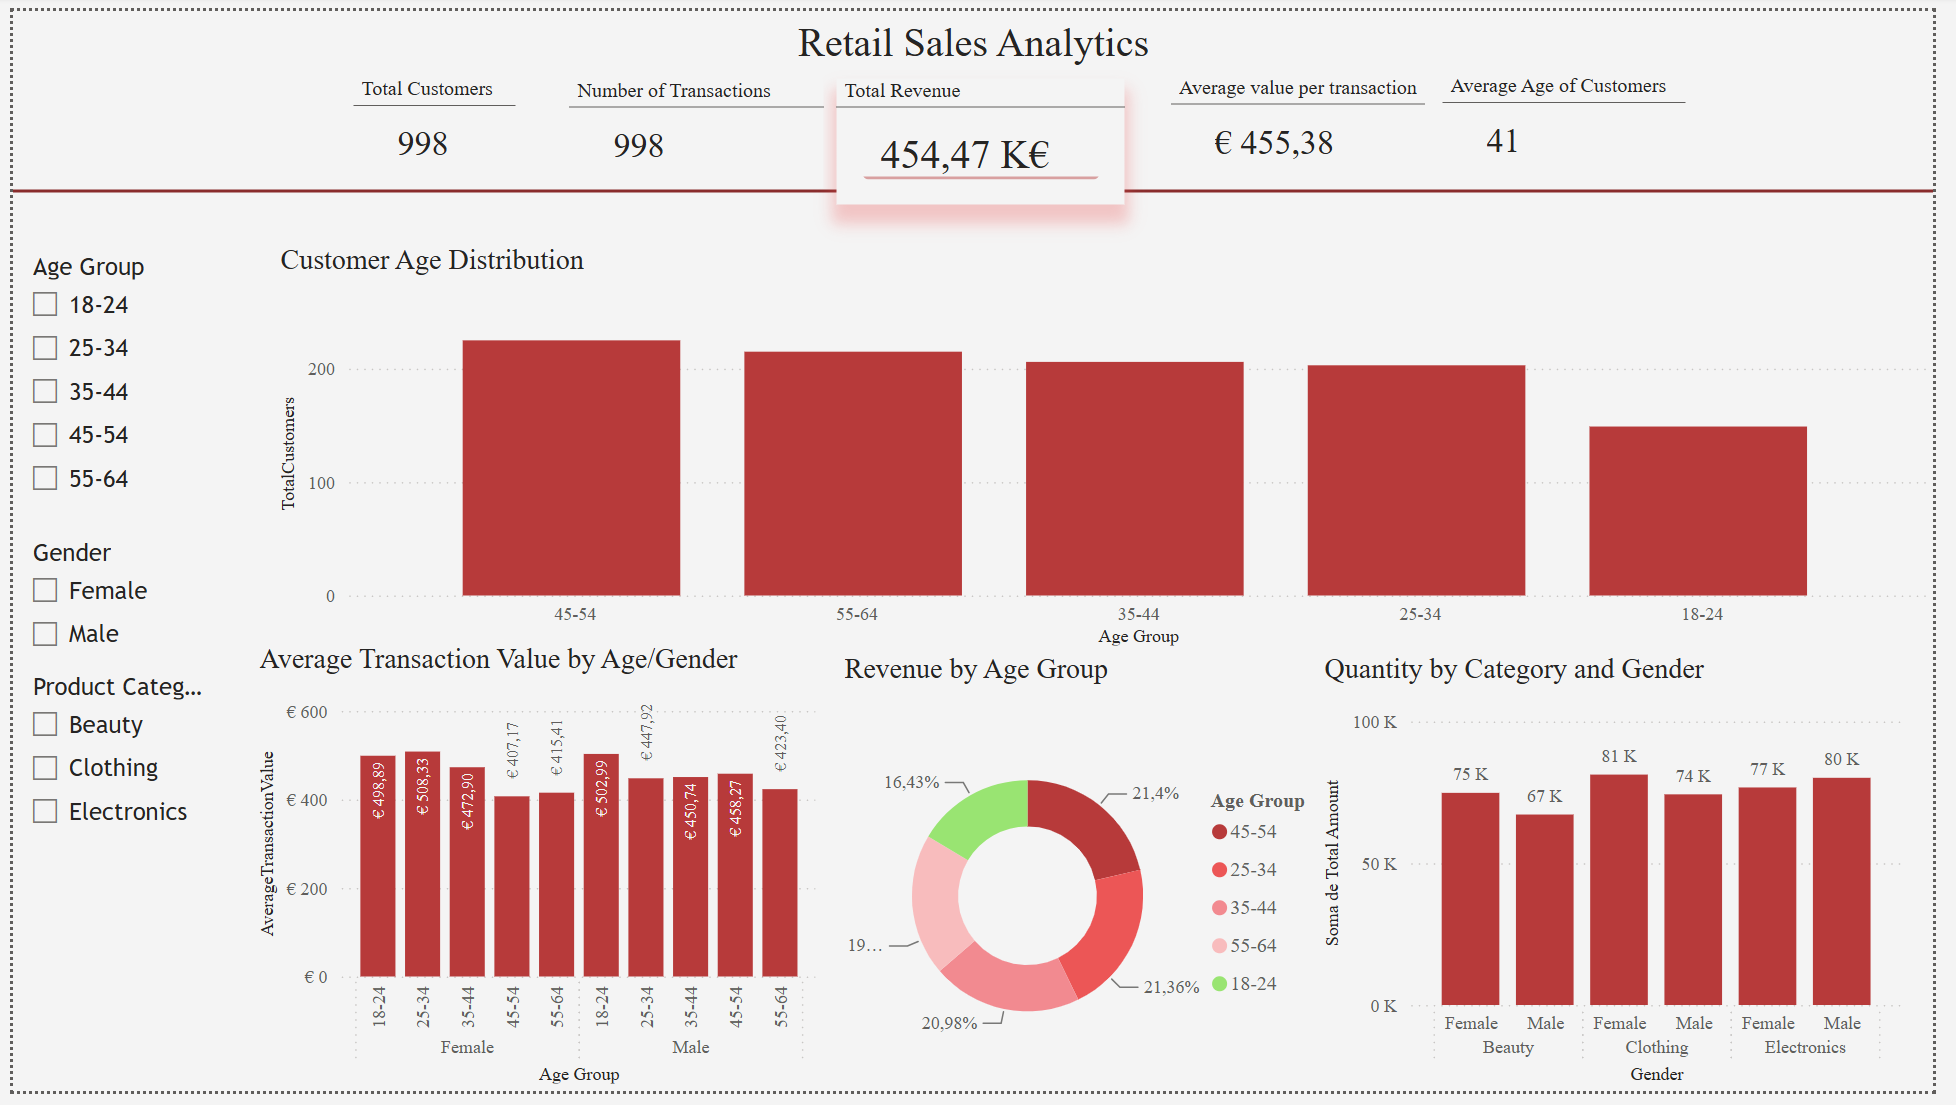

Layout of this report page (visuals, bound fields, positions):
{"tool":"powerbi","page":{"name":"Customer Insights","canvas":[1280,720],"ordinal":1},"visuals":[{"type":"shape","box":[0,45,1280,150],"z":0},{"type":"textbox","box":[0,0,1280,45],"z":1000},{"type":"cardVisual","title":"Total Revenue","fields":{"Data":["Retail_Sale.TotalRevenue"]},"box":[549,45,192,84],"z":2000},{"type":"cardVisual","title":"Number of Transactions","fields":{"Data":["Retail_Sale.TotalTransaction"]},"box":[371.2,45,168.8,72.5],"z":4000},{"type":"cardVisual","title":"Average value per transaction","fields":{"Data":["Retail_Sale.AverageTransactionValue"]},"box":[772,43,168.8,72.5],"z":5000},{"type":"cardVisual","title":"Average Age of Customers","fields":{"Data":["Dim_Customer.AverageCustomerAge"]},"box":[953,42,162,73],"z":7000},{"type":"slicer","fields":{"Values":["Dim_Customer.Age Group"]},"box":[0,155,119,176],"z":8000},{"type":"cardVisual","title":"Total Customers","fields":{"Data":["Dim_Customer.TotalCustomers"]},"box":[227,44,107.5,72.5],"z":9000},{"type":"slicer","fields":{"Values":["Dim_Customer.Gender"]},"box":[0,346,118.8,88.8],"z":10000},{"type":"lineStackedColumnComboChart","title":" Customer Age Distribution","fields":{"Category":["Dim_Customer.Age Group"],"Y":["Dim_Customer.TotalCustomers"]},"box":[173,155,1107.5,272.5],"z":11000},{"type":"donutChart","title":"Revenue by Genre","fields":{"Category":["Dim_Customer.Age Group"],"Y":["Sum(Retail_Sale.Total Amount)"]},"box":[548.8,427.5,336.2,292.5],"z":13000},{"type":"clusteredColumnChart","title":"Quantity by Category","fields":{"Category":["Dim_Category.Product Category","Dim_Customer.Gender"],"Y":["Sum(Retail_Sale.Total Amount)"]},"box":[869,428,395,292],"z":14000},{"type":"clusteredColumnChart","title":"Average Transaction Value by Age/Gender","fields":{"Category":["Dim_Customer.Gender","Dim_Customer.Age Group"],"Y":["Retail_Sale.AverageTransactionValue"]},"box":[159,421,381,299],"z":14001},{"type":"slicer","fields":{"Values":["Dim_Category.Product Category"]},"box":[0,435,150,285],"z":14002}]}

Visuals, with their boxes in screenshot pixels (x1, y1, x2, y2), scaled from the page's 1280x720 canvas onto the 1956x1105 screenshot:
shape: crop(0, 69, 1955, 299)
textbox: crop(0, 0, 1955, 69)
"Total Revenue" cardVisual: crop(839, 69, 1132, 198)
"Number of Transactions" cardVisual: crop(567, 69, 825, 180)
"Average value per transaction" cardVisual: crop(1180, 66, 1438, 177)
"Average Age of Customers" cardVisual: crop(1456, 64, 1704, 176)
slicer - Dim_Customer.Age Group: crop(0, 238, 182, 508)
"Total Customers" cardVisual: crop(347, 68, 511, 179)
slicer - Dim_Customer.Gender: crop(0, 531, 182, 667)
" Customer Age Distribution" lineStackedColumnComboChart: crop(264, 238, 1955, 656)
"Revenue by Genre" donutChart: crop(839, 656, 1352, 1104)
"Quantity by Category" clusteredColumnChart: crop(1328, 657, 1932, 1104)
"Average Transaction Value by Age/Gender" clusteredColumnChart: crop(243, 646, 825, 1104)
slicer - Dim_Category.Product Category: crop(0, 668, 229, 1104)
